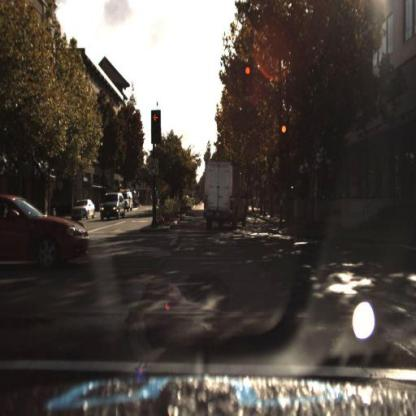car: (1, 188, 99, 280), (204, 150, 250, 235), (72, 195, 97, 222), (74, 197, 99, 222)
trafficLight: (246, 66, 251, 91)
trafficLight-Red: (281, 126, 288, 152)
trafficLight-RedLeft: (153, 110, 162, 140)
